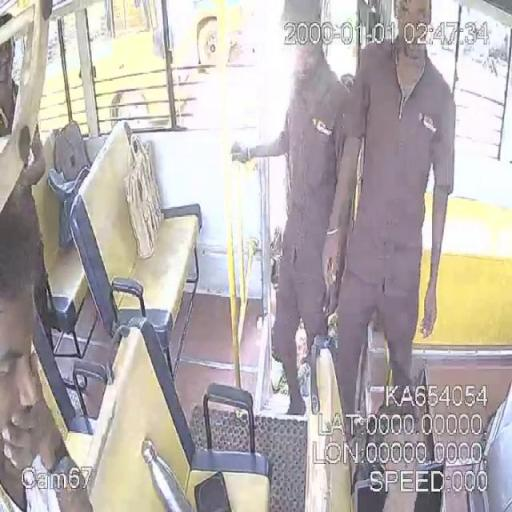persona: (321, 1, 457, 460), (230, 3, 356, 416), (0, 127, 94, 510)
